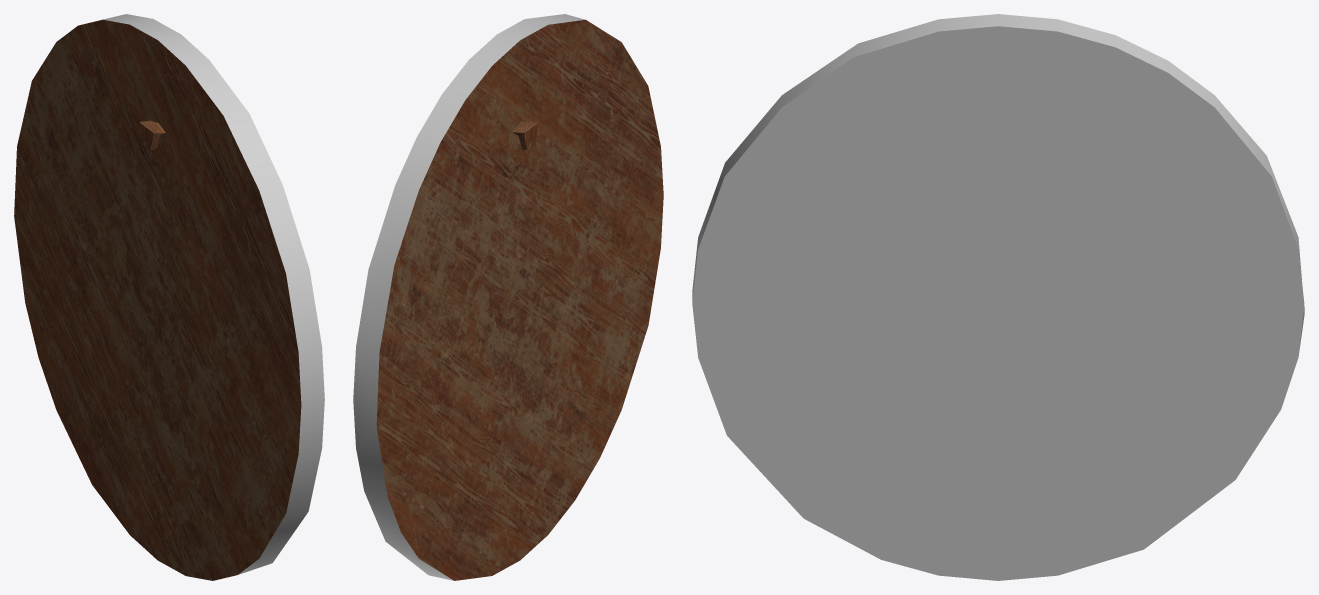
Rendered from Darts.fbx.
3 renders of one model, left to right at view 1: azimuth 30°, elevation 25°; view 2: azimuth 150°, elevation 25°; view 3: azimuth 270°, elevation 25°, orthographic. The views are drawn at different scales.
Visible parts, largest first — view 1: Cylinder; view 2: Cylinder; view 3: Cylinder.
Boxes of the visible parts, left/top/right/bottom form: Cylinder: left=14, top=14, right=324, bottom=580; Cylinder: left=353, top=14, right=663, bottom=580; Cylinder: left=692, top=14, right=1304, bottom=580.
Size of the model in its own units: 5.59 by 80 by 80.04.
